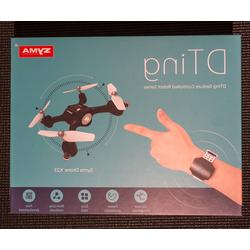drone: (27, 82, 128, 162)
